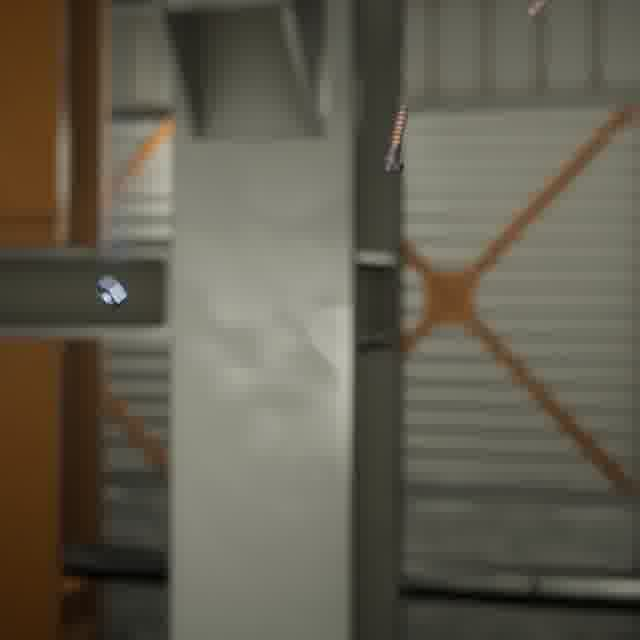bolt: (372, 99, 413, 177), (522, 0, 556, 22)
nut: (91, 271, 131, 313)
